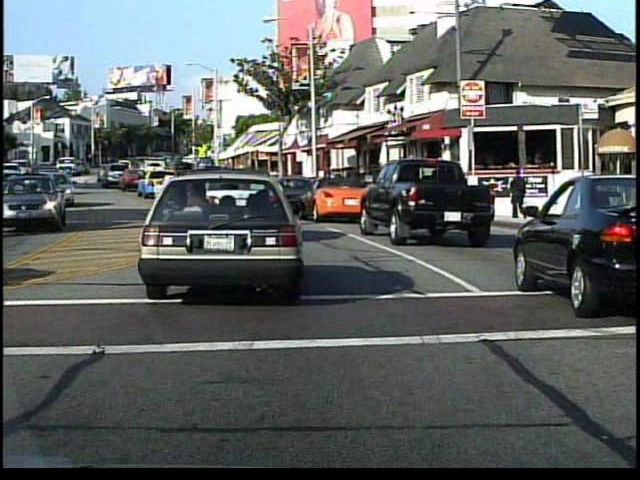person: (510, 167, 530, 226)
